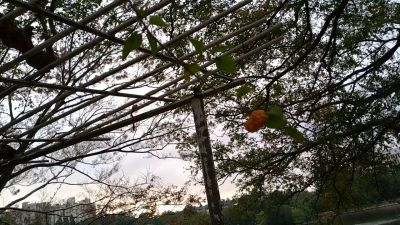eggs: (245, 108, 268, 133)
